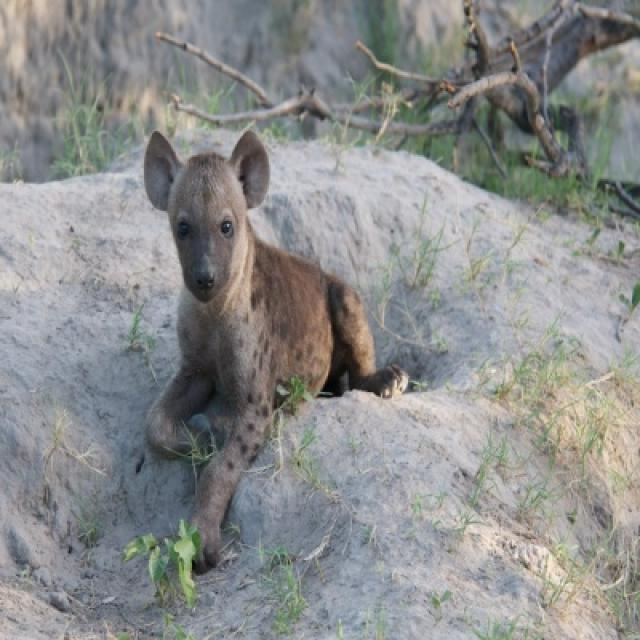hyena: (142, 133, 410, 571)
